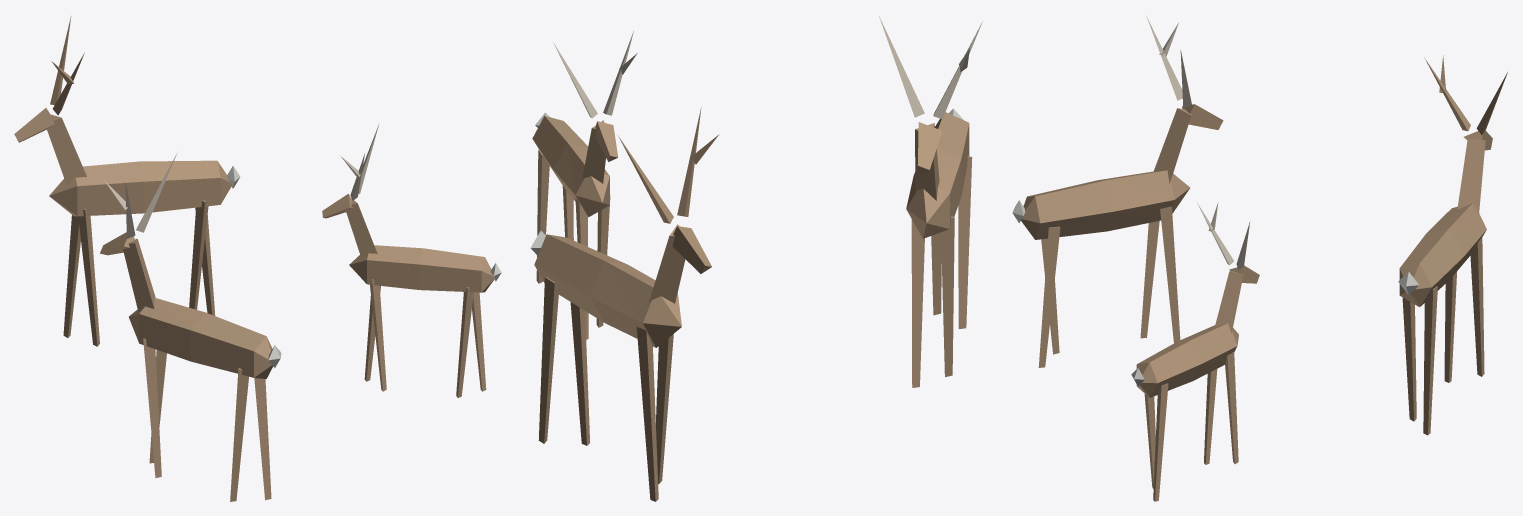
File: deer.glb
3 renders of one model, left to right at view 1: azimuth 30°, elevation 25°; view 2: azimuth 150°, elevation 25°; view 3: azimuth 270°, elevation 25°, orthographic. The views are drawn at different scales.
Visible parts, largest first — view 1: LOD0; view 2: LOD0; view 3: LOD0.
Boxes of the visible parts, x1,y1,x2,y2 form: LOD0: [14, 16, 501, 501]; LOD0: [530, 16, 982, 501]; LOD0: [1012, 15, 1507, 501].
Size of what is drawn, in the model's own units: 0.7484 by 0.5854 by 0.8393.
